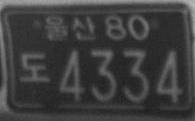0: (127, 13, 150, 40)
3: (122, 48, 150, 104), (90, 49, 117, 102)
4: (155, 49, 184, 104), (59, 49, 85, 102)
8: (104, 14, 126, 41)
도: (19, 51, 50, 83)
울산_O: (45, 15, 96, 41)
